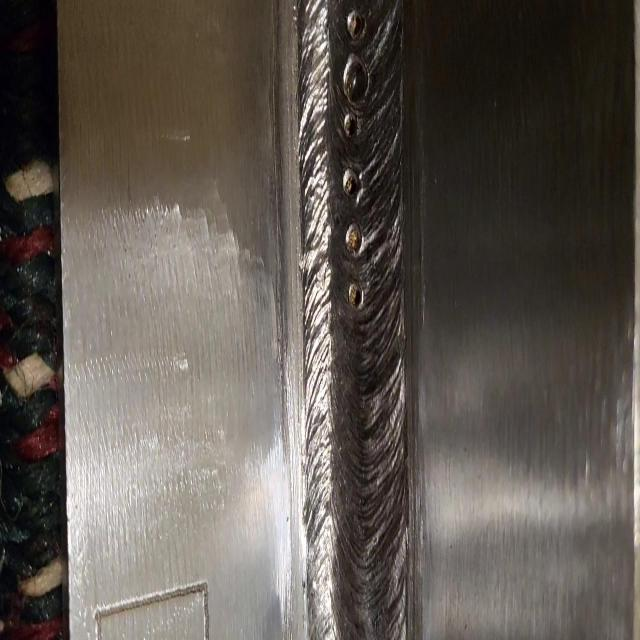Dry Waste: (310, 0, 409, 542)
